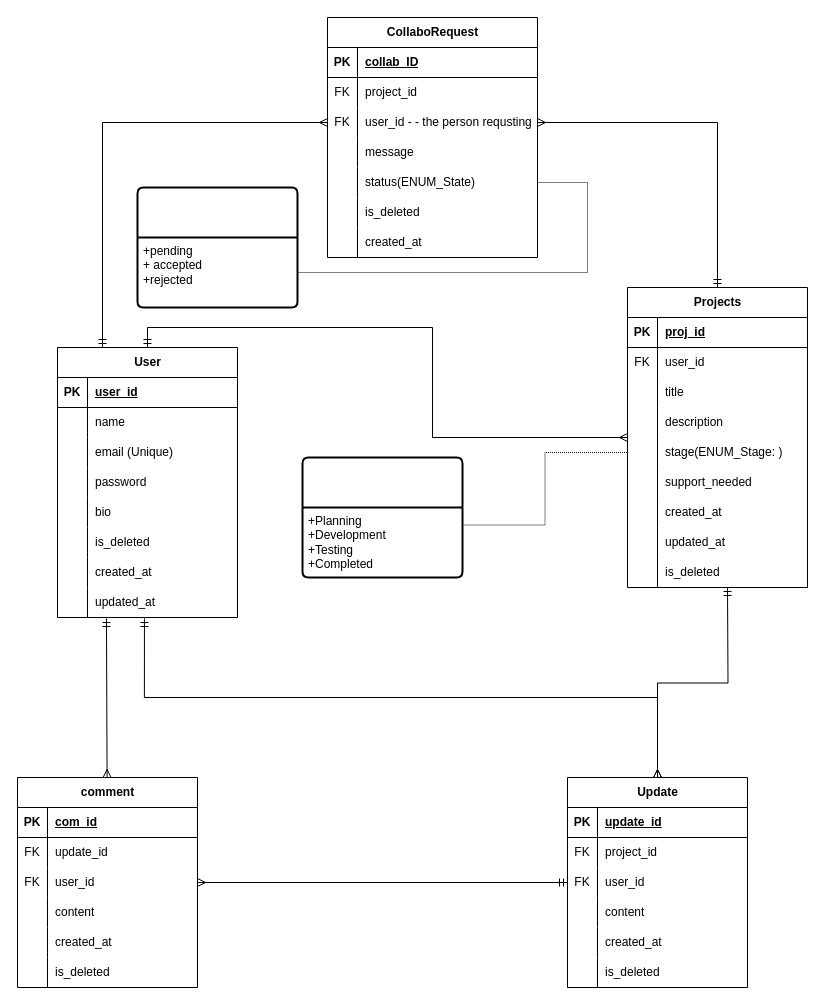
This 825x1005 diagram has some shape labels left out. Here are the shapes that lost their labels. From the top down, the box of each, then its label:
(136, 186, 298, 308): ENUM_State
(301, 456, 463, 578): ENUM_Stage
